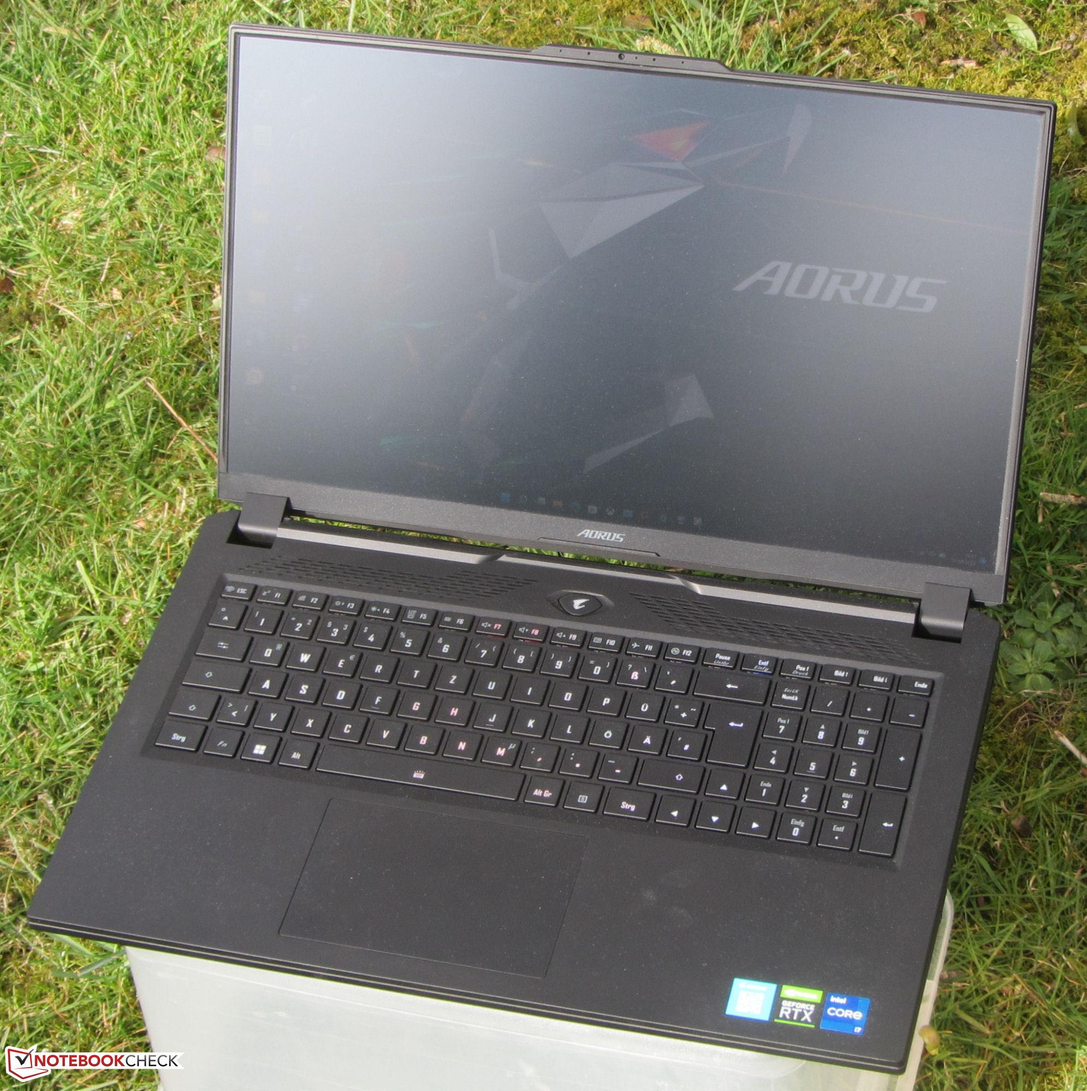0: (577, 648, 616, 680)
1: (241, 602, 281, 632)
2: (278, 606, 319, 637)
3: (315, 610, 355, 642)
4: (352, 616, 390, 648)
5: (388, 622, 427, 653)
6: (426, 627, 464, 658)
7: (464, 632, 502, 663)
8: (501, 639, 540, 670)
9: (539, 642, 579, 675)
a: (246, 664, 286, 697)
accent: (654, 658, 692, 691)
ae: (626, 721, 668, 753)
alt-left: (276, 735, 319, 767)
altgr-right: (521, 772, 565, 805)
b: (401, 721, 444, 753)
c: (326, 710, 367, 741)
caret: (206, 597, 245, 626)
comma: (518, 739, 559, 770)
d: (320, 676, 360, 708)
del: (691, 667, 769, 702)
e: (323, 648, 363, 678)
enter: (704, 697, 760, 765)
f: (358, 682, 398, 712)
g: (395, 687, 436, 718)
h: (433, 693, 473, 724)
hash: (666, 727, 706, 759)
i: (509, 671, 549, 703)
j: (472, 698, 512, 730)
k: (510, 704, 550, 736)
keyboard: (136, 566, 948, 870)
l: (549, 710, 587, 741)
less: (214, 692, 256, 724)
m: (479, 732, 521, 765)
minus: (596, 750, 637, 781)
n: (441, 727, 482, 759)
o: (547, 678, 587, 709)
oe: (587, 716, 627, 747)
p: (586, 683, 625, 714)
plus: (663, 693, 704, 726)
point: (557, 744, 597, 775)
q: (247, 633, 289, 665)
r: (358, 650, 398, 680)
s: (283, 670, 323, 702)
shift-left: (165, 685, 222, 720)
shift-lock: (180, 656, 251, 691)
shift-right: (636, 756, 704, 790)
space: (312, 741, 525, 801)
ss: (615, 654, 654, 686)
strg-left: (155, 720, 207, 752)
strg-right: (603, 786, 656, 823)
t: (396, 655, 435, 686)
tab: (193, 626, 252, 660)
u: (471, 666, 511, 697)
ue: (624, 688, 664, 720)
v: (364, 715, 405, 747)
w: (284, 638, 324, 670)
x: (289, 704, 330, 735)
y: (252, 698, 293, 730)
z: (433, 661, 473, 691)
